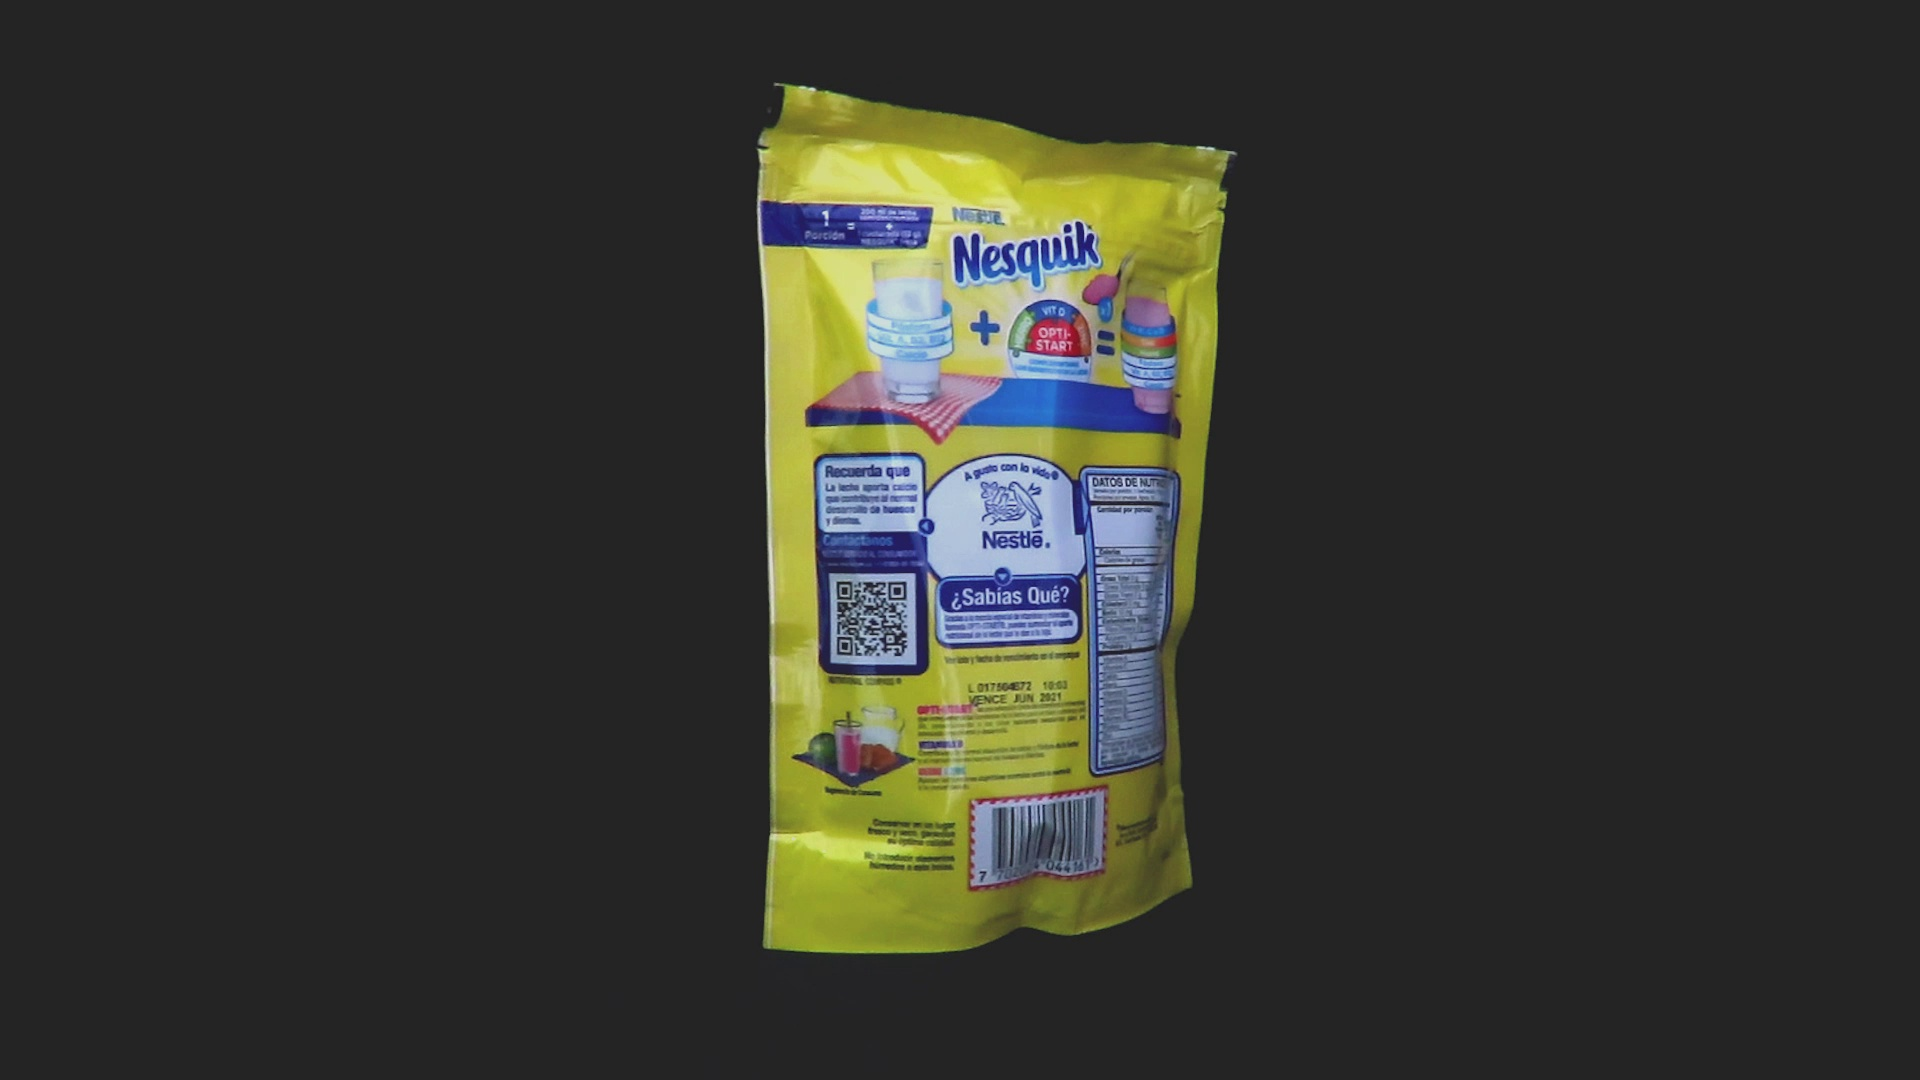COL0170305DYP20000: (752, 78, 1244, 960)
